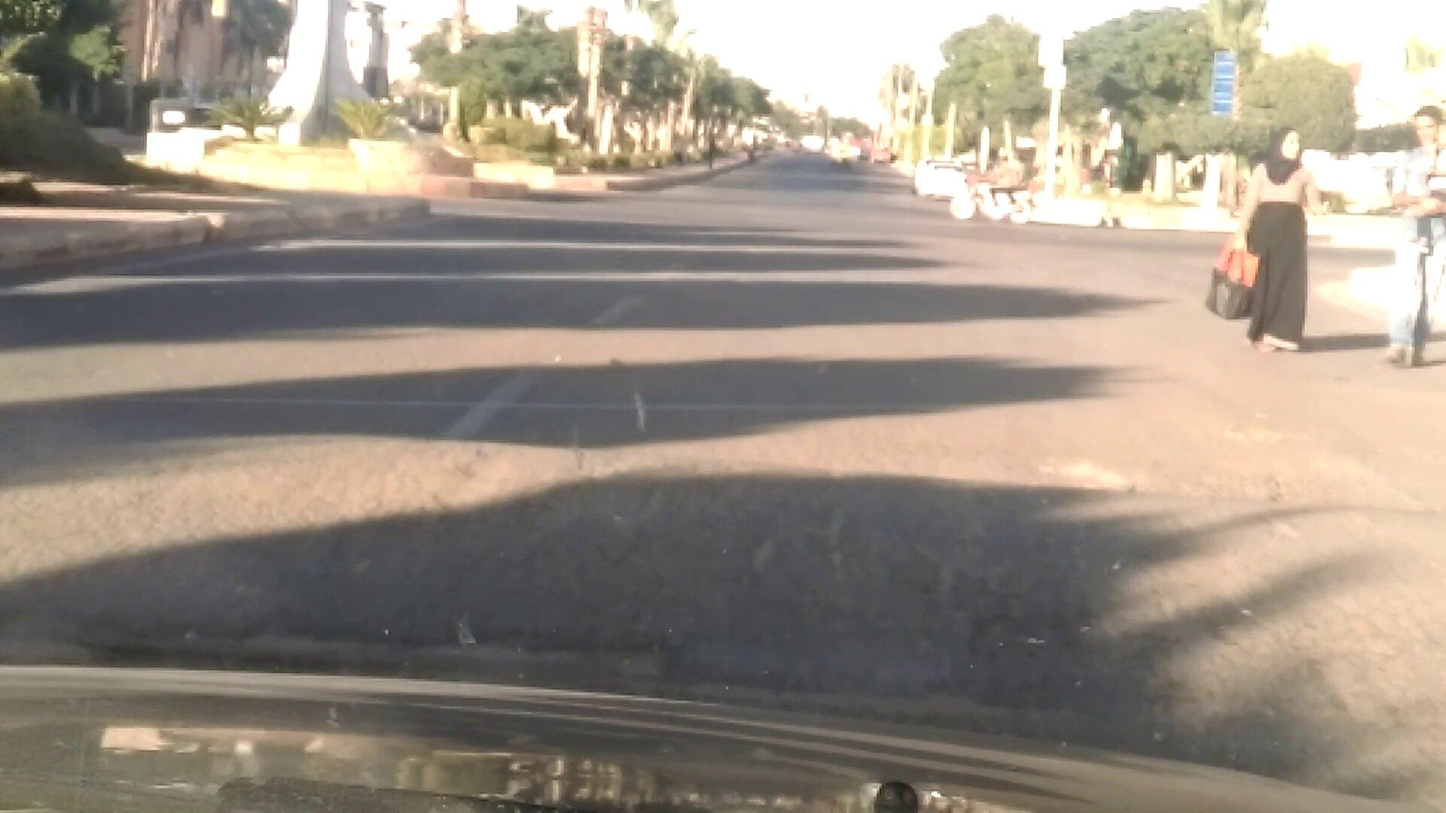Pothole: (126, 600, 731, 689), (972, 604, 1132, 721)
